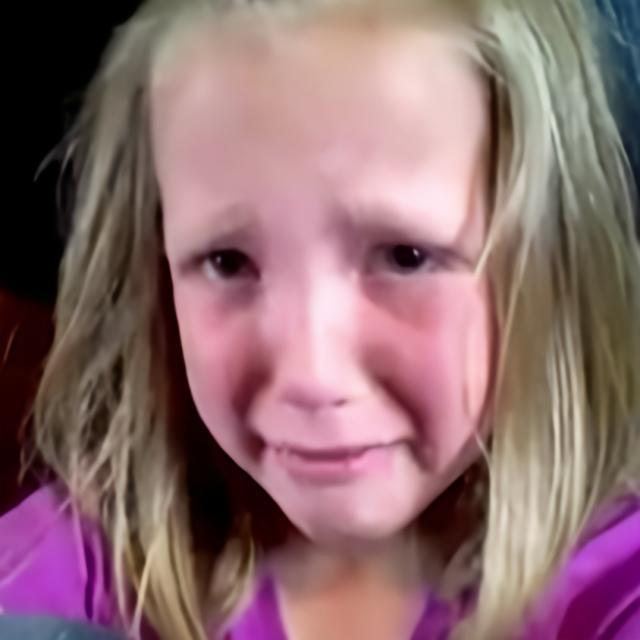sad: (149, 1, 506, 552)
